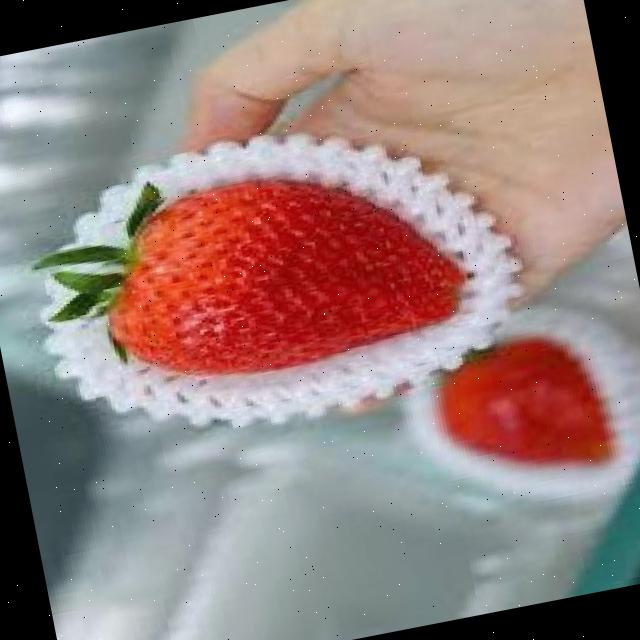strawberry: (86, 143, 474, 400)
